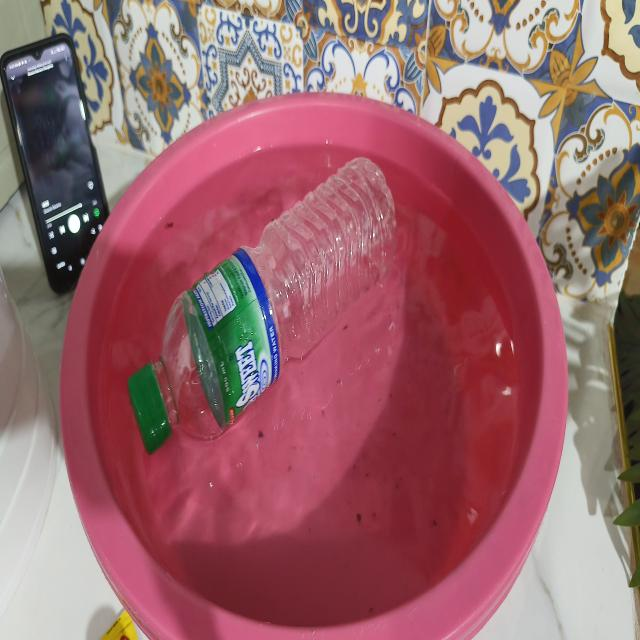Plastic Bottle: (114, 122, 417, 497)
